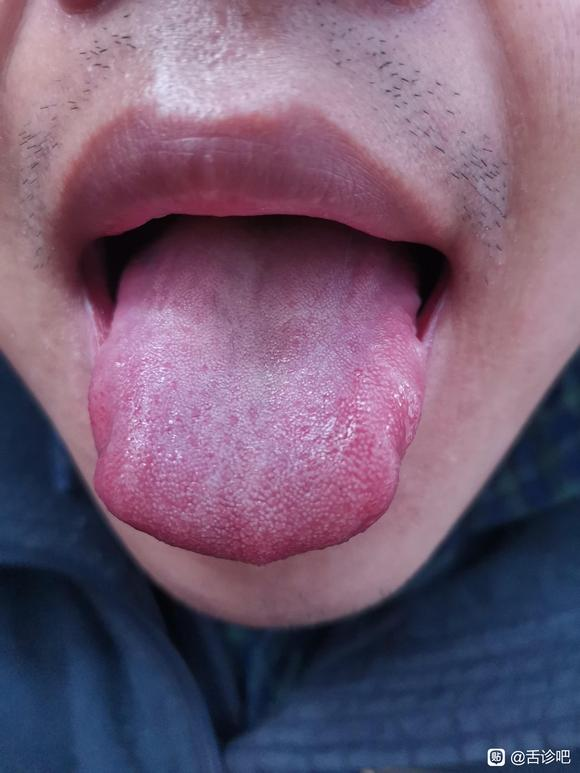baitaishe: (88, 215, 426, 566)
hongshe: (88, 215, 426, 566)
